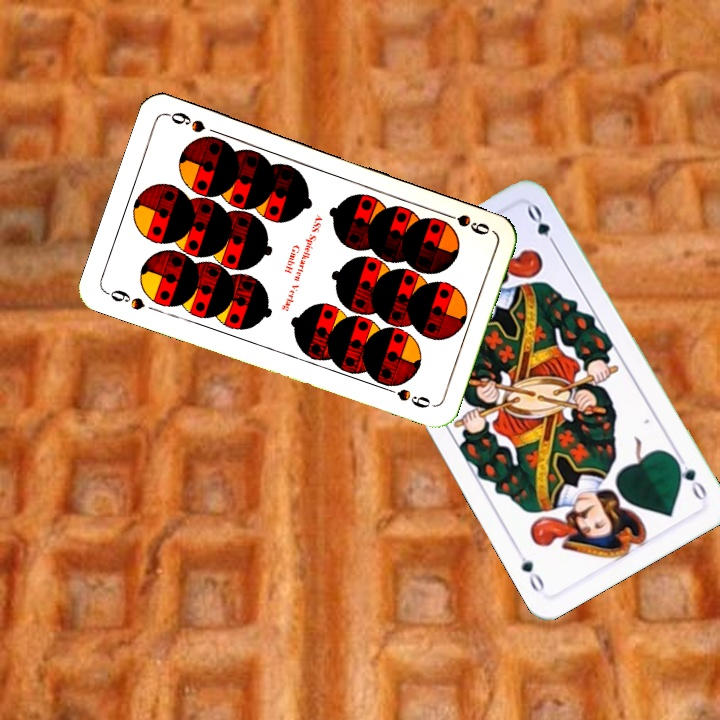GO: (669, 449, 710, 504)
S9: (436, 208, 492, 238), (102, 285, 148, 313)
